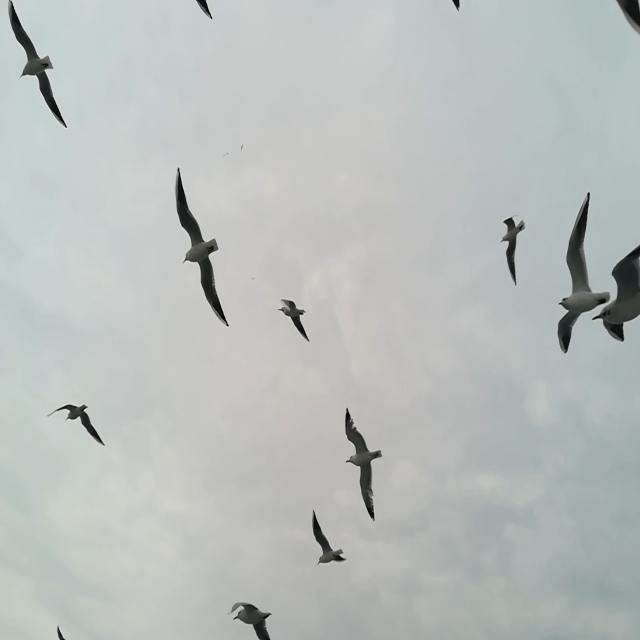bird: (557, 191, 611, 355), (174, 167, 229, 328), (8, 0, 68, 129), (591, 243, 640, 342), (345, 408, 383, 522), (46, 404, 105, 448), (312, 508, 348, 566), (500, 213, 526, 287), (226, 601, 273, 640), (278, 298, 310, 342), (195, 0, 213, 21), (57, 624, 66, 640), (451, 0, 462, 13), (222, 151, 230, 159), (240, 142, 244, 152), (251, 275, 256, 283)
